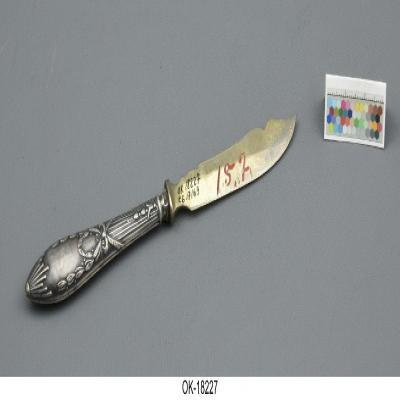dpi: (24, 117, 298, 306)
